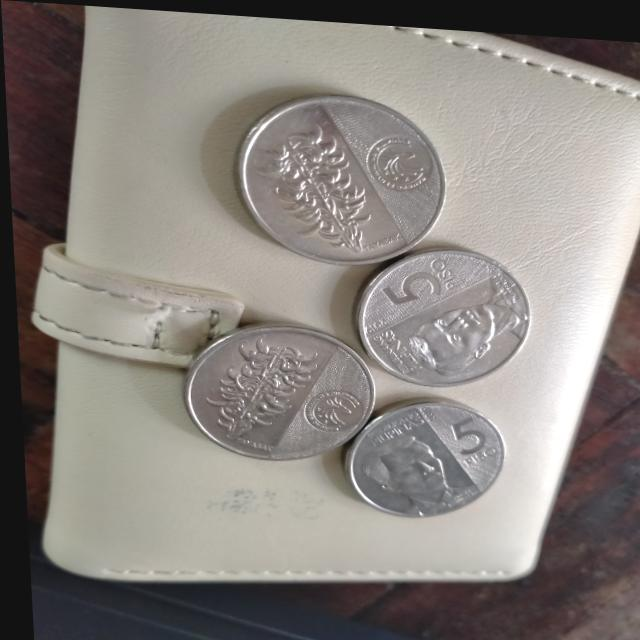5_New_Back: (248, 104, 374, 255), (189, 320, 328, 450)
5_New_Front: (366, 241, 469, 308), (433, 398, 496, 466)
